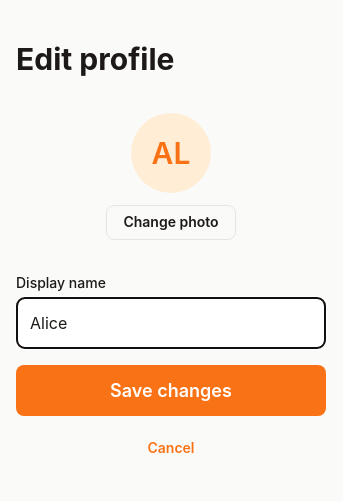
Test: EditProfileScreen › saves profile and shows success message
Replace the text in the field with test id "edit-display-name-input" with "Alice Updated" at (171, 323), box [16,297,326,349]
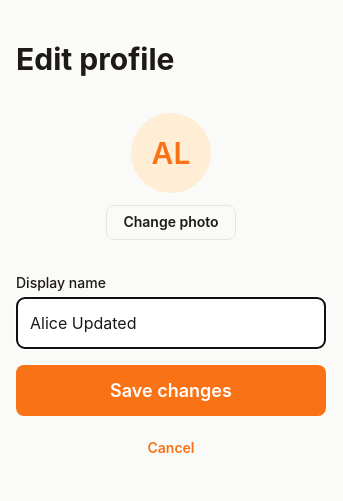
Click the button "Save changes" at (171, 390), box [16,365,326,416]
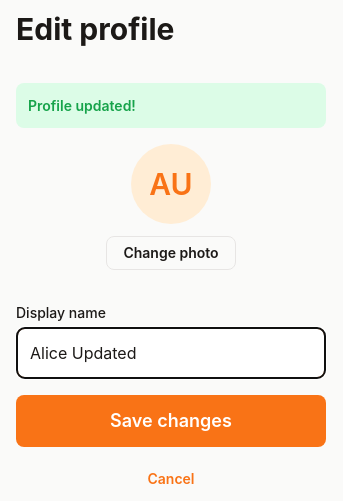
expect the message "Profile updated!" is shown: met, box [16,83,326,128]
expect the text "Profile updated!" is shown: met, box [28,97,136,114]
